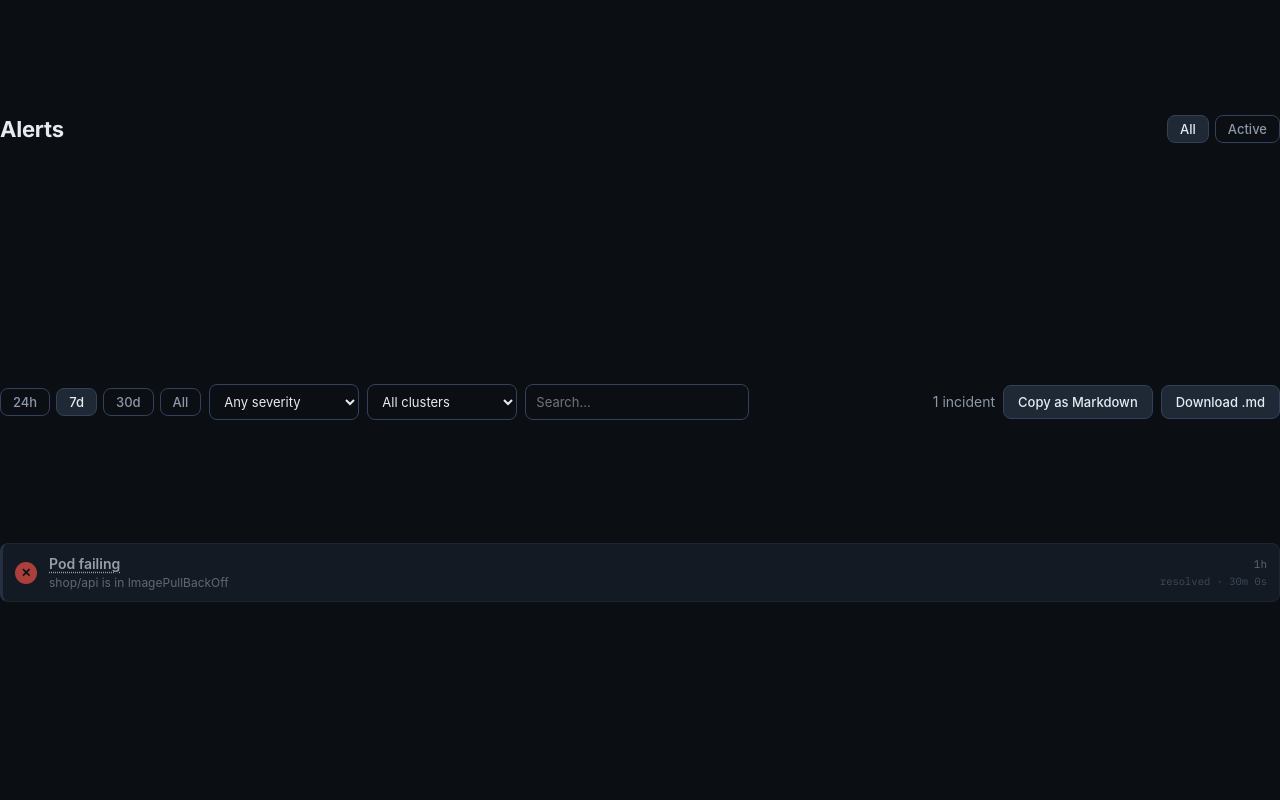
the alerts page › opens the report of an incident from its title
Click the button "Pod failing" at coordinates (85, 564), box [49,554,120,574]
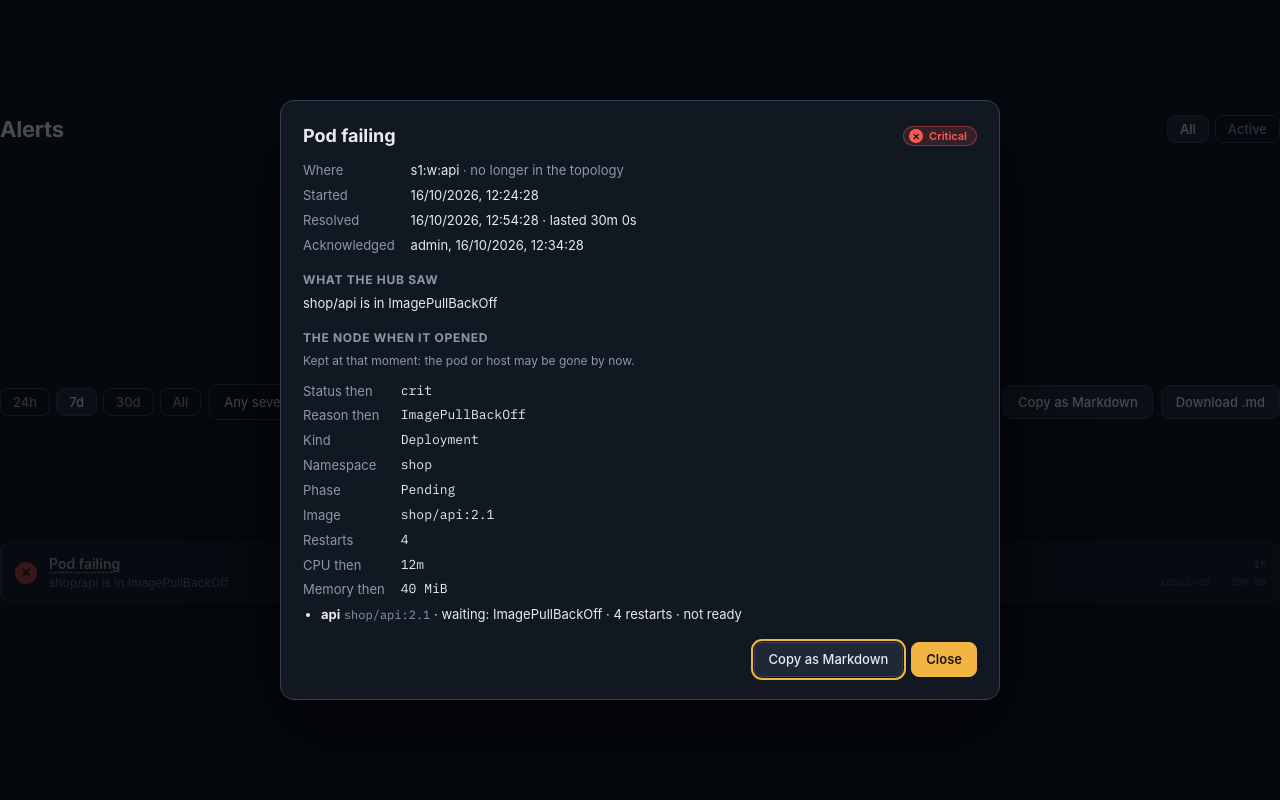
Now the heading "What the hub saw" is shown, box [303,272,438,287]
Now the text "shop/api is in ImagePullBackOff" is shown, box [303,295,498,311]
Now the heading "The node when it opened" is shown, box [303,330,488,345]
